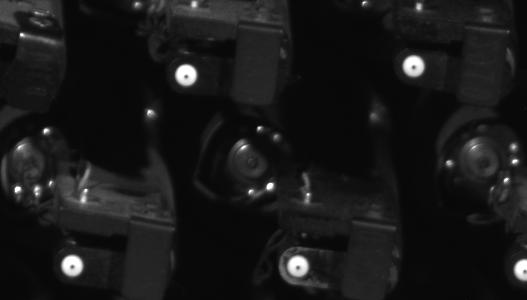fiber: (166, 59, 205, 94), (56, 250, 91, 285), (283, 248, 314, 282), (400, 50, 428, 82), (513, 253, 527, 287)
